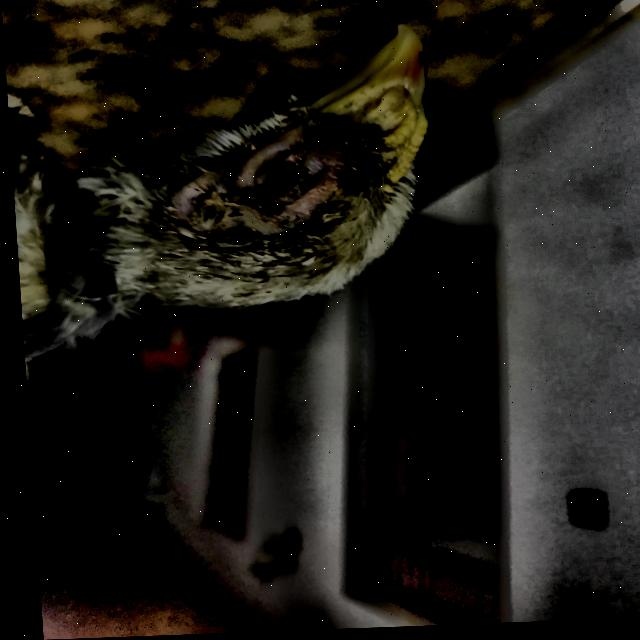Coryza: (118, 11, 492, 323)
